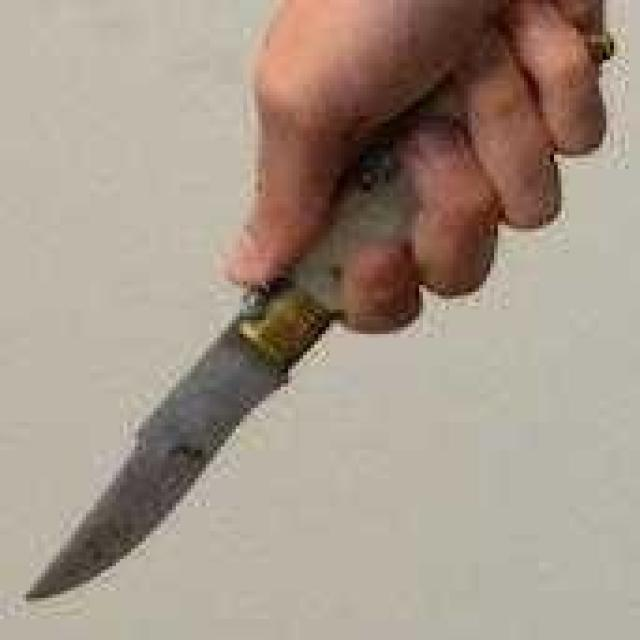Knife: (17, 12, 616, 609)
